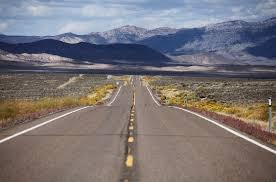road: (0, 77, 275, 180)
